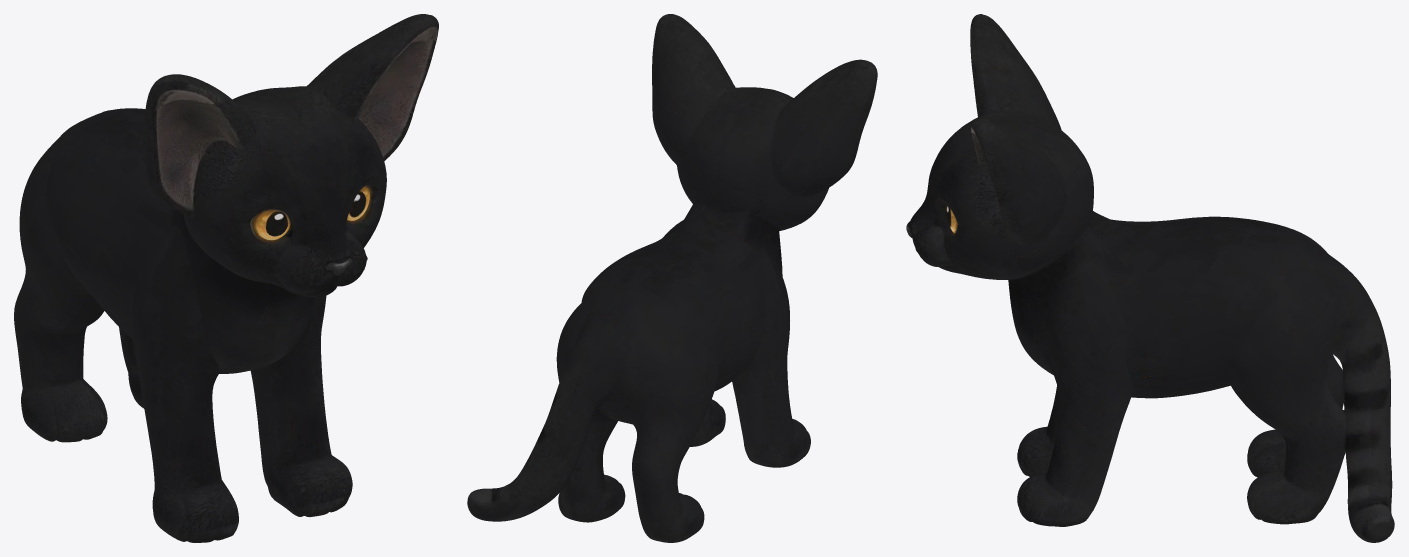
Rendered from meshy-oriental.glb.
The picture shows the model from 3 angles, left to right: view 1: azimuth 30°, elevation 25°; view 2: azimuth 150°, elevation 25°; view 3: azimuth 270°, elevation 25°; orthographic projection. The views are drawn at different scales.
Visible parts, largest first — view 1: Mesh_0; view 2: Mesh_0; view 3: Mesh_0.
Part boxes in pixels (x1,y1,x2,y2): Mesh_0: (14, 14, 438, 542); Mesh_0: (467, 14, 877, 542); Mesh_0: (906, 14, 1394, 542).
Size of the model in its own units: 1.15 by 1.82 by 1.9.
1 material, 1 textured.
